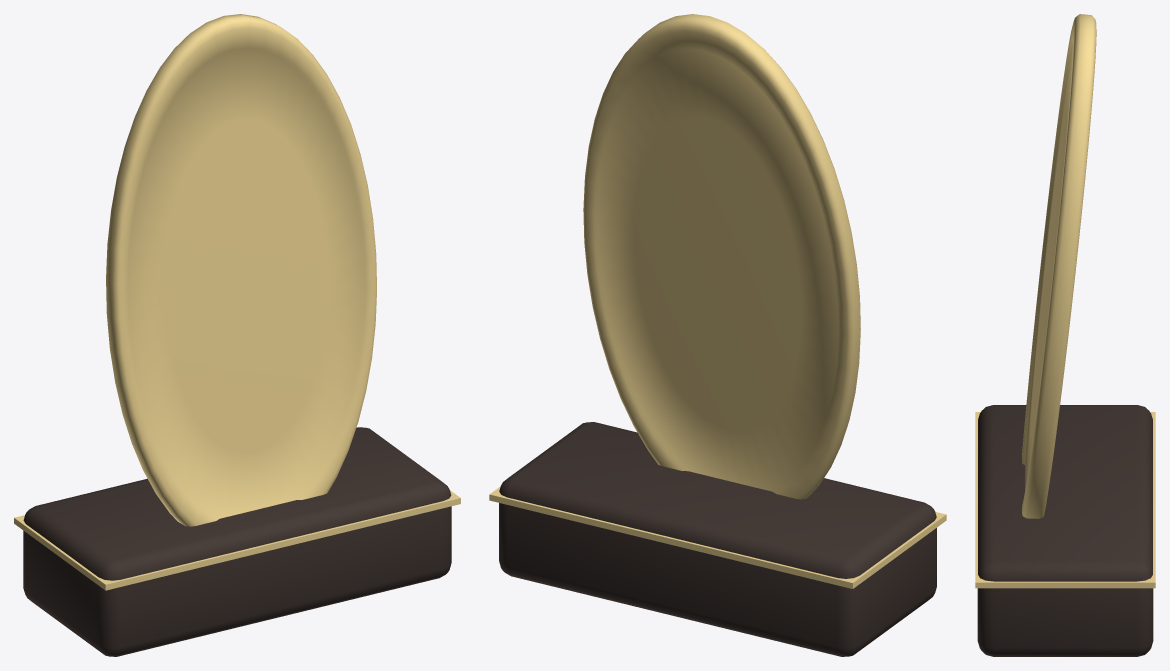
The model's file is koban.glb.
3 views of the same model, side by side, from view 1: azimuth 30°, elevation 25°; view 2: azimuth 150°, elevation 25°; view 3: azimuth 270°, elevation 25° (orthographic). The views are drawn at different scales.
Parts seen in each view (by area): view 1: KobanCoin, KobanStand, KobanStandLine; view 2: KobanCoin, KobanStand, KobanStandLine; view 3: KobanStand, KobanCoin, KobanStandLine.
Boxes of the visible parts, box(x1,y1,x2,y2) form: KobanCoin: box(106, 14, 376, 526); KobanStand: box(23, 427, 451, 656); KobanStandLine: box(14, 490, 460, 590); KobanCoin: box(583, 14, 860, 499); KobanStand: box(499, 422, 936, 656); KobanStandLine: box(489, 486, 946, 588); KobanStand: box(977, 405, 1153, 656); KobanCoin: box(1022, 14, 1096, 518); KobanStandLine: box(975, 412, 1155, 588).
Size of the model in its own units: 0.1012 by 0.1538 by 0.0452.
